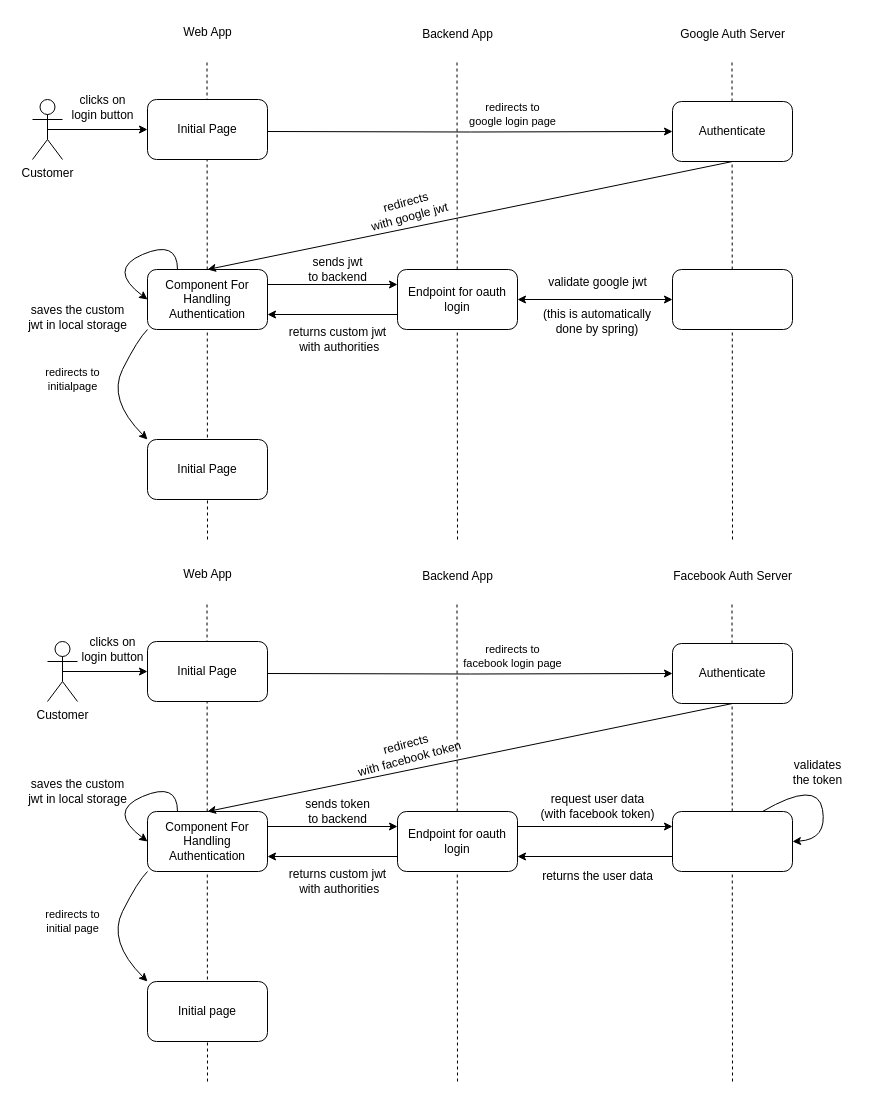
Some shapes in this 869 by 1100 pixel diagram are drawn without their labels. The shapes that lost their labels are listed below. From the top down, each one's centre as x and y in pixels, then its label:
pixel 732 299: Google Jwk (Public Keys)
pixel 732 841: Facebook Graph API
